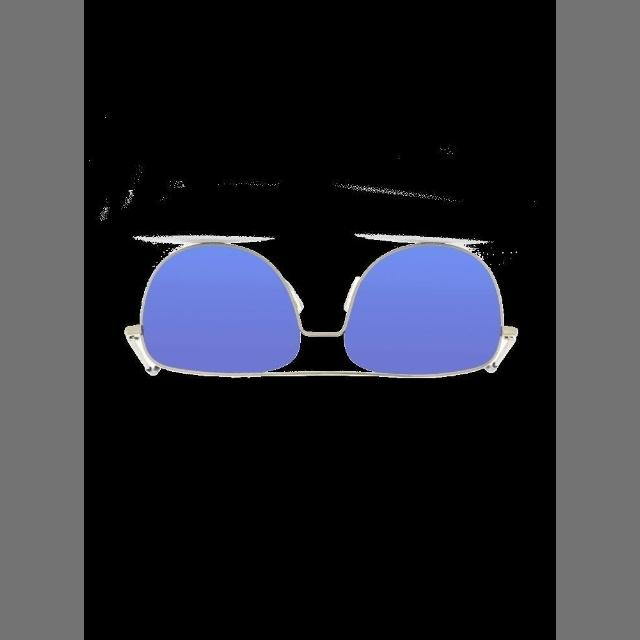Sunglasses: (117, 243, 528, 393)
